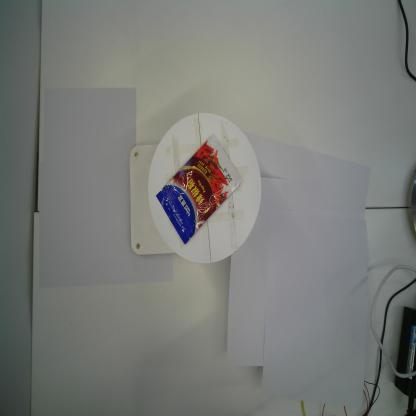Seasoner: (155, 133, 244, 247)
